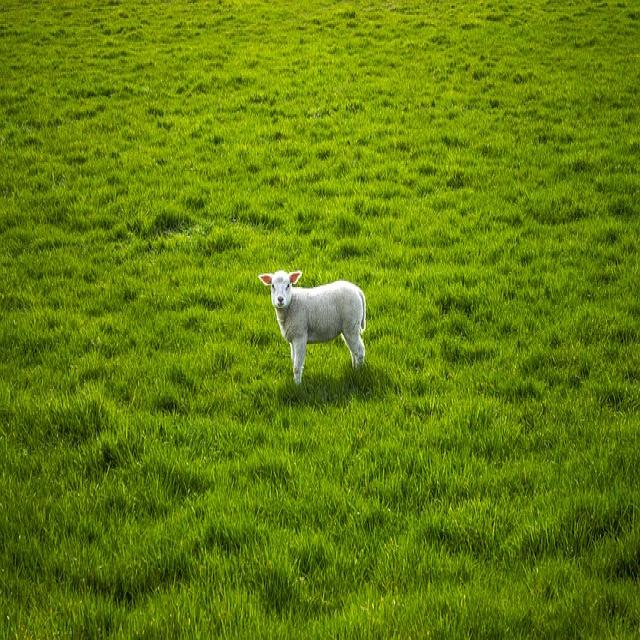goat: (260, 272, 368, 385)
